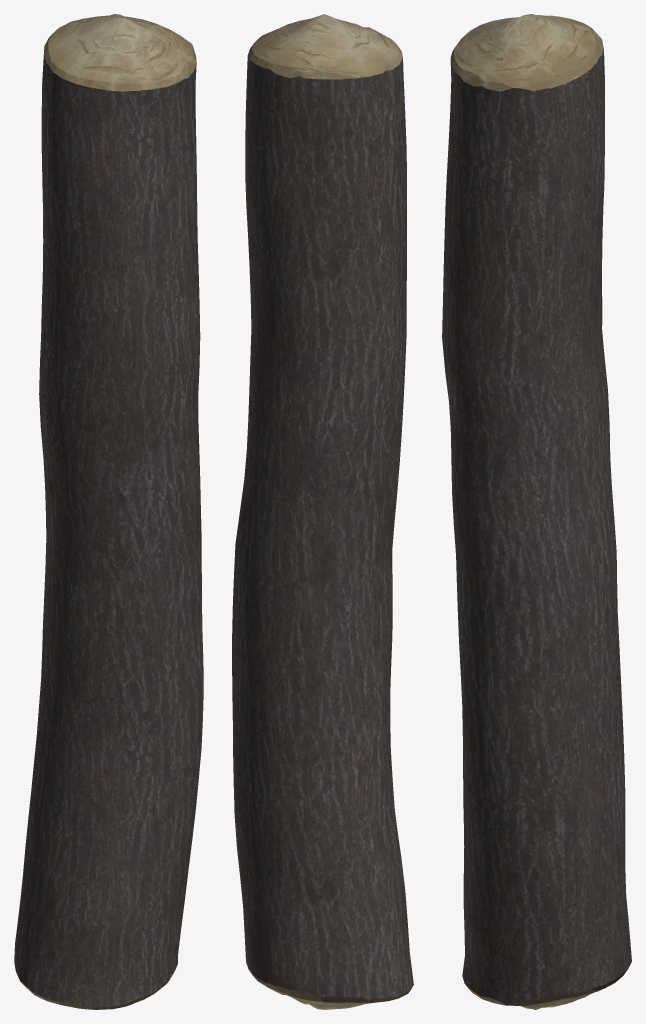
3 renders of one model, left to right at view 1: azimuth 30°, elevation 25°; view 2: azimuth 150°, elevation 25°; view 3: azimuth 270°, elevation 25°, orthographic.
Parts seen in each view (by area): view 1: SM_BM_Oak_Tree_01_half_mid_LOD0; view 2: SM_BM_Oak_Tree_01_half_mid_LOD0; view 3: SM_BM_Oak_Tree_01_half_mid_LOD0.
Boxes of the visible parts, bbox=[...] form: SM_BM_Oak_Tree_01_half_mid_LOD0: bbox=[14, 14, 203, 1009]; SM_BM_Oak_Tree_01_half_mid_LOD0: bbox=[232, 14, 413, 1009]; SM_BM_Oak_Tree_01_half_mid_LOD0: bbox=[442, 14, 631, 1009].
Bounding box in the file's own units: 0.8999 × 5.1 × 0.8794.
1 material, 1 textured.
